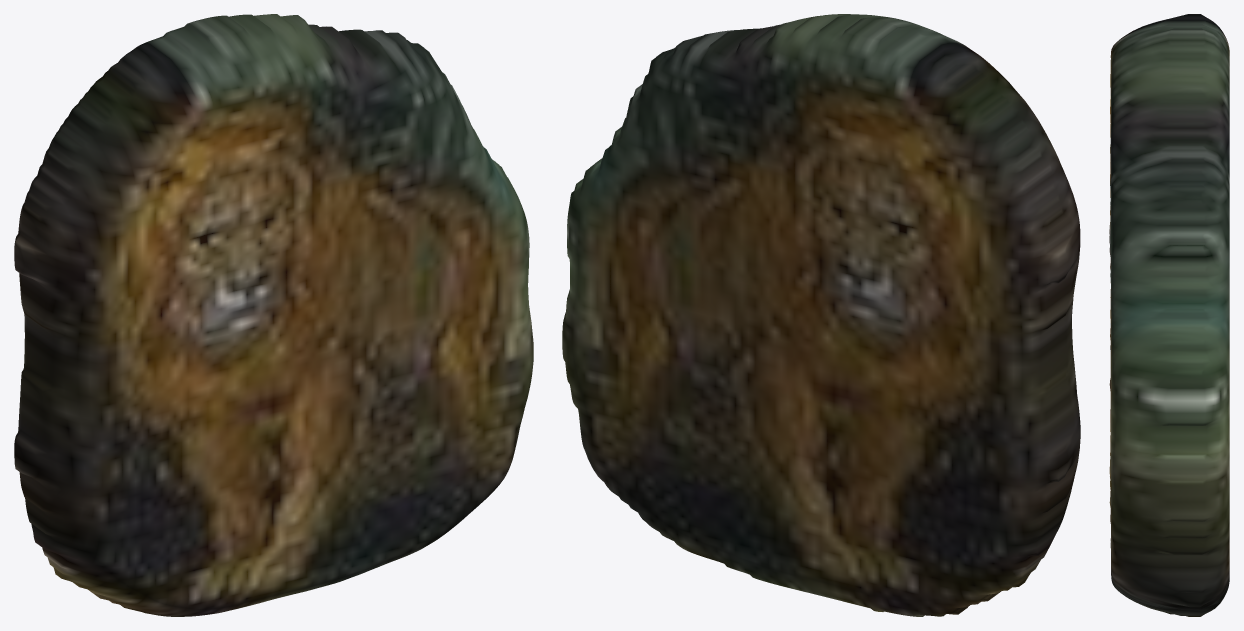
The model's file is eden-lion.glb.
3 views of the same model, side by side, from view 1: azimuth 30°, elevation 25°; view 2: azimuth 150°, elevation 25°; view 3: azimuth 270°, elevation 25° (orthographic). The views are drawn at different scales.
Visible parts, largest first — view 1: eden-lion; view 2: eden-lion; view 3: eden-lion.
Part boxes in pixels (left/top/right/bottom): eden-lion: left=14, top=14, right=533, bottom=616; eden-lion: left=562, top=14, right=1080, bottom=616; eden-lion: left=1109, top=14, right=1229, bottom=616.
Bounding box in the file's own units: 1.41 × 1.57 × 0.3325.
Materials: 1 (1 with a texture image).
